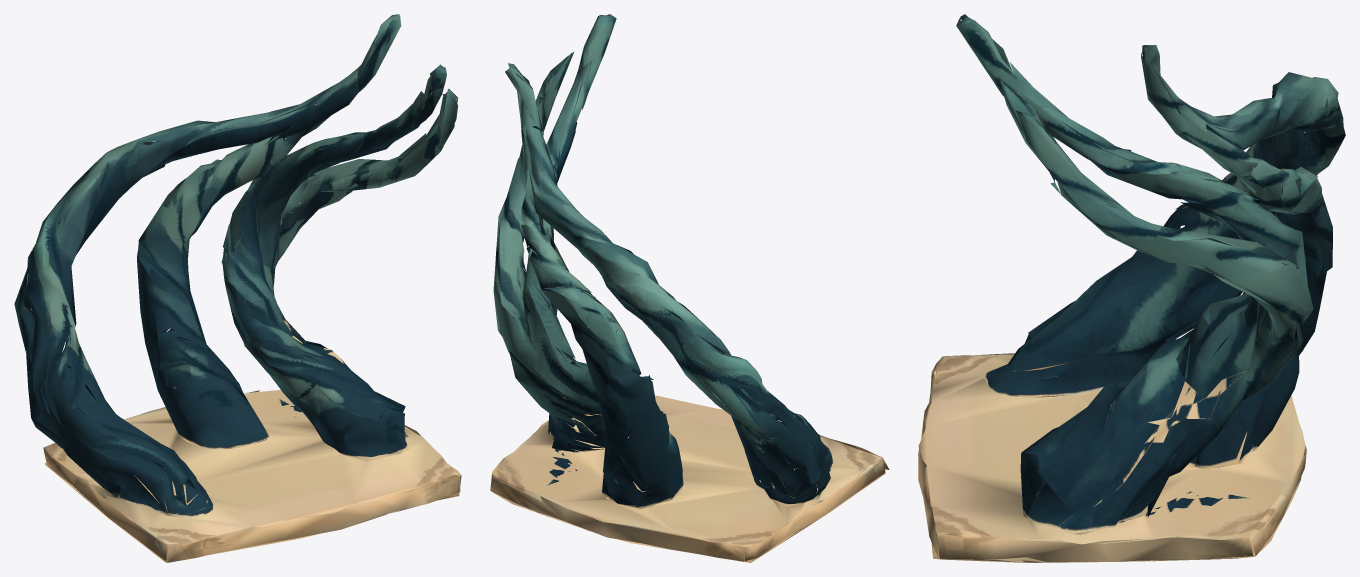
The model's file is palm1.1.glb.
3 renders of one model, left to right at view 1: azimuth 30°, elevation 25°; view 2: azimuth 150°, elevation 25°; view 3: azimuth 270°, elevation 25°, orthographic. The views are drawn at different scales.
Parts seen in each view (by area): view 1: palm1; view 2: palm1; view 3: palm1.
Part boxes in pixels (box(x1,y1,x2,y2)): palm1: box(14, 14, 461, 562); palm1: box(490, 14, 889, 562); palm1: box(918, 14, 1345, 562).
Bounding box in the file's own units: 1.71 × 1.91 × 1.38.
Materials: 1 (1 with a texture image).
